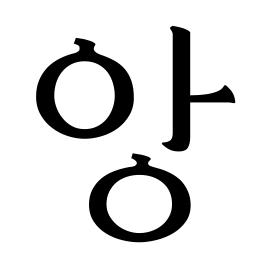Gaji: (155, 71, 210, 121)
